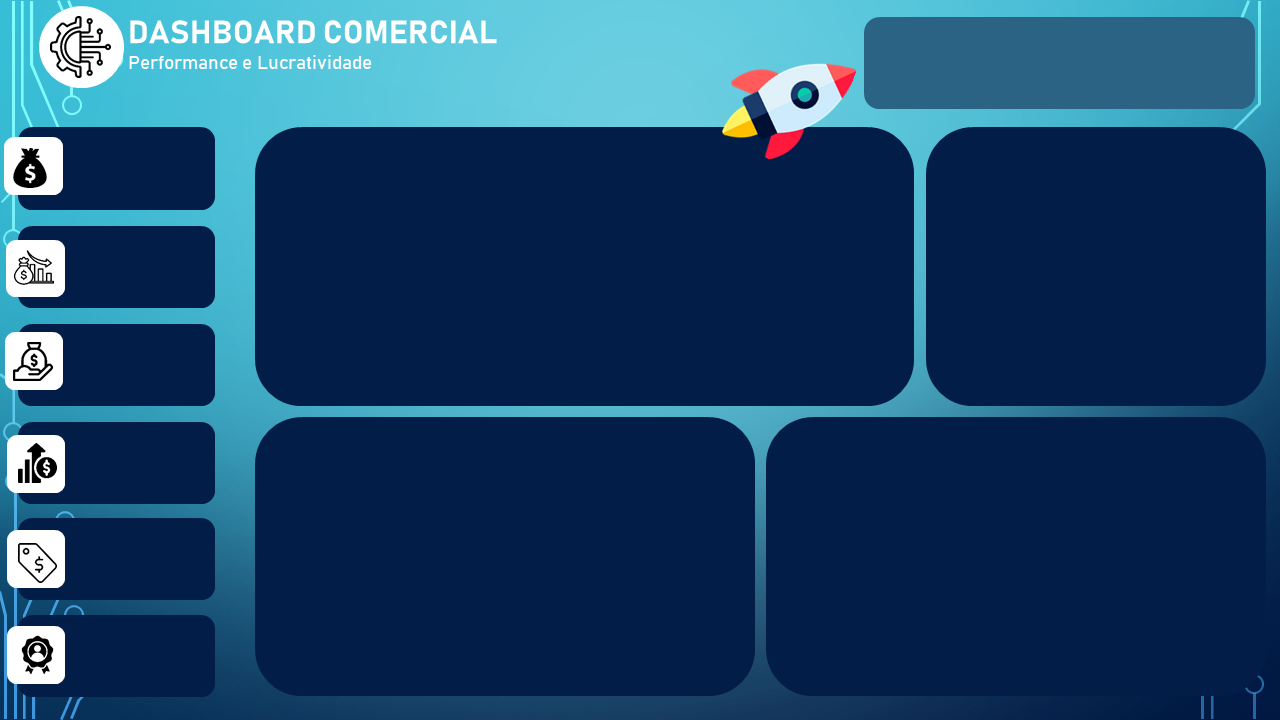

What the dashboard file says about the page in this screenshot:
{"tool":"powerbi","page":{"name":"Página 1","canvas":[1280,720],"ordinal":0},"visuals":[{"type":"card","title":"Custo","fields":{"Values":["Sum(Pedidos.Custo Total)"]},"box":[64.1,237.1,149.3,61.5],"z":0},{"type":"card","title":"Receita","fields":{"Values":["Sum(Pedidos.Valor Total)"]},"box":[61.5,132.6,153.7,65.9],"z":1},{"type":"card","title":"Lucro","fields":{"Values":["Pedidos.Lucro"]},"box":[50,329.3,163.3,61.5],"z":2},{"type":"card","title":"Margem de Lucro","fields":{"Values":["Pedidos.Margem Lucro"]},"box":[58.8,430.2,159.8,71.1],"z":3},{"type":"card","title":"Qnt de Clientes","fields":{"Values":["Count(Pedidos.Cliente)"]},"box":[72.9,624.3,131.7,69.4],"z":4},{"type":"card","title":"Ticket Médio","fields":{"Values":["Avg(Pedidos.Valor Total)"]},"box":[58.8,528.6,151,61.5],"z":5},{"type":"areaChart","title":"Receita por Perído","fields":{"Y":["Sum(Pedidos.Valor Total)"],"Category":["Pedidos.Data.Variation.Hierarquia de datas.Ano","Pedidos.Data.Variation.Hierarquia de datas.Trimestre","Pedidos.Data.Variation.Hierarquia de datas.Mês","Pedidos.Data.Variation.Hierarquia de datas.Dia"]},"box":[289.8,142.2,598,242.3],"z":6},{"type":"tableEx","title":"Performance por Vendedor","fields":{"Values":["Pedidos.Foto Vendedor","Pedidos.Vendedor","Sum(Pedidos.Valor Total)","Pedidos.Lucro","Pedidos.Margem Lucro"]},"box":[266.9,418,476.8,266],"z":7},{"type":"clusteredBarChart","title":"Receita por Categoria de Produto","fields":{"Category":["Pedidos.Categoria de Produto"],"Y":["Sum(Pedidos.Valor Total)"]},"box":[920.2,132.6,342.4,276.6],"z":8},{"type":"ribbonChart","title":"Performance por Grupo de Cliente","fields":{"Y":["Sum(Pedidos.Valor Total)"],"Series":["Pedidos.Grupo"],"Category":["Pedidos.Data.Variation.Hierarquia de datas.Ano","Pedidos.Data.Variation.Hierarquia de datas.Trimestre","Pedidos.Data.Variation.Hierarquia de datas.Mês","Pedidos.Data.Variation.Hierarquia de datas.Dia"]},"box":[782.3,418,461,266],"z":9},{"type":"slicer","fields":{"Values":["Pedidos.Região"]},"box":[1064.2,29,176.5,66.7],"z":10},{"type":"slicer","fields":{"Values":["Pedidos.UF"]},"box":[888,29.3,176.5,66.7],"z":11}]}

Visuals, with their boxes in screenshot pixels (x1, y1, x2, y2), scaled from the page's 1280x720 canvas onto the 1280x720 screenshot:
"Custo" card: bbox=[64, 237, 213, 299]
"Receita" card: bbox=[62, 133, 215, 198]
"Lucro" card: bbox=[50, 329, 213, 391]
"Margem de Lucro" card: bbox=[59, 430, 219, 501]
"Qnt de Clientes" card: bbox=[73, 624, 205, 694]
"Ticket Médio" card: bbox=[59, 529, 210, 590]
"Receita por Perído" areaChart: bbox=[290, 142, 888, 384]
"Performance por Vendedor" tableEx: bbox=[267, 418, 744, 684]
"Receita por Categoria de Produto" clusteredBarChart: bbox=[920, 133, 1263, 409]
"Performance por Grupo de Cliente" ribbonChart: bbox=[782, 418, 1243, 684]
slicer - Pedidos.Região: bbox=[1064, 29, 1241, 96]
slicer - Pedidos.UF: bbox=[888, 29, 1064, 96]
